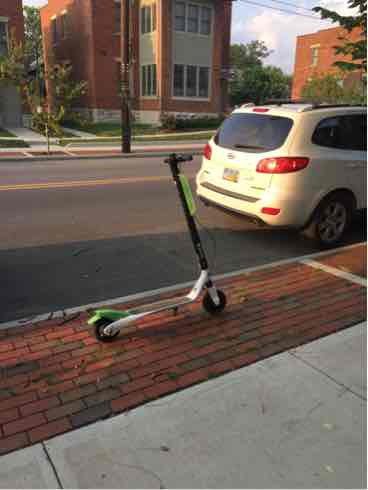scooter: (81, 140, 230, 342)
